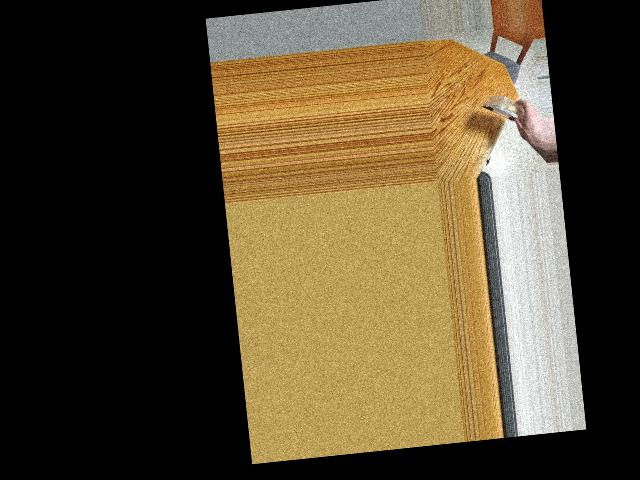cheese: (482, 92, 527, 123)
